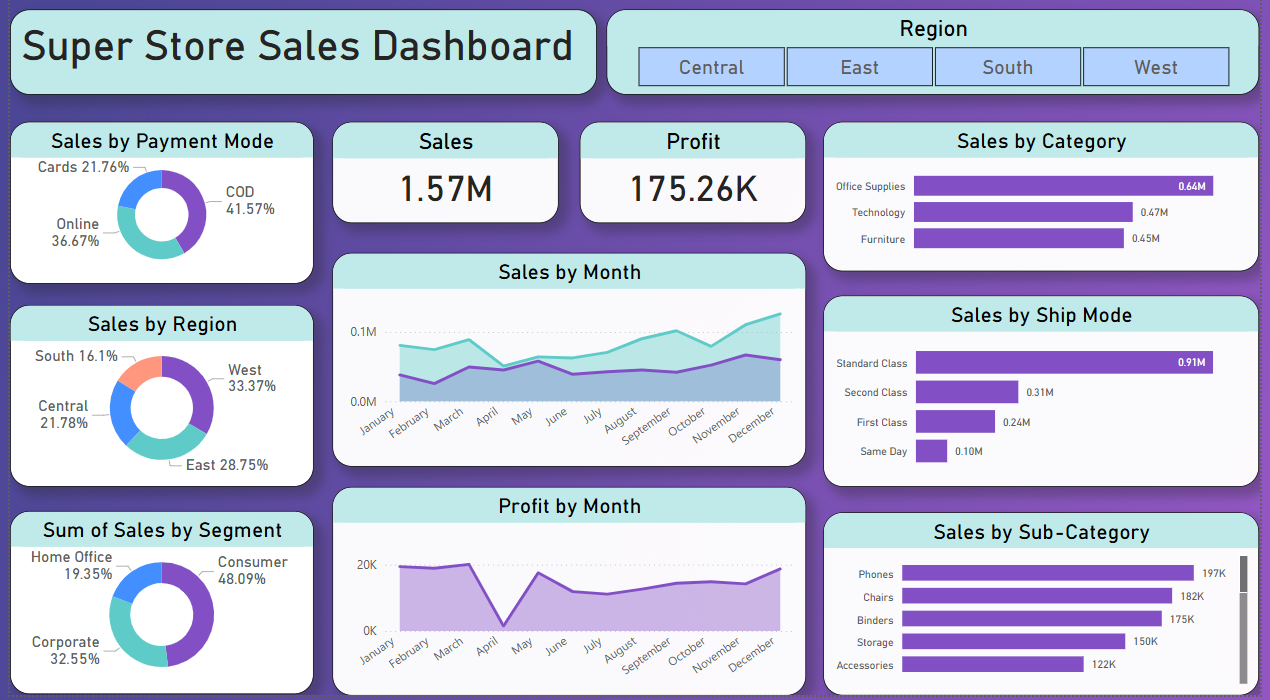

What the dashboard file says about the page in this screenshot:
{"tool":"powerbi","page":{"name":"Page 1","canvas":[1280,720],"ordinal":0},"visuals":[{"type":"donutChart","title":"Sales by Payment Mode","fields":{"Category":["SuperStore_Sales_Dataset.Payment Mode"],"Y":["CountNonNull(SuperStore_Sales_Dataset.Payment Mode)"]},"box":[0,132.9,310.9,165.7],"z":0},{"type":"donutChart","title":"Sales by Region","fields":{"Category":["SuperStore_Sales_Dataset.Region"],"Y":["Sum(SuperStore_Sales_Dataset.Sales)"]},"box":[0,320.5,310.9,186.3],"z":1000},{"type":"card","title":"Sales","fields":{"Values":["Sum(SuperStore_Sales_Dataset.Sales)"]},"box":[330.1,132.9,231.5,104.1],"z":2000},{"type":"card","title":"Profit","fields":{"Values":["Sum(SuperStore_Sales_Dataset.Profit)"]},"box":[583.5,132.9,231.5,104.1],"z":3000},{"type":"barChart","title":"Sales by Category","fields":{"Category":["SuperStore_Sales_Dataset.Category"],"Y":["Sum(SuperStore_Sales_Dataset.Sales)"]},"box":[832.8,132.9,446.5,153.4],"z":4000},{"type":"barChart","title":"Sales by Ship Mode","fields":{"Category":["SuperStore_Sales_Dataset.Ship Mode"],"Y":["Sum(SuperStore_Sales_Dataset.Sales)"]},"box":[832.8,310.9,446.5,195.9],"z":5000},{"type":"barChart","title":"Sales by Sub-Category","fields":{"Category":["SuperStore_Sales_Dataset.Sub-Category"],"Y":["Sum(SuperStore_Sales_Dataset.Sales)"]},"box":[832.8,532.8,446.5,187.7],"z":6000},{"type":"areaChart","title":"Sales by Month","fields":{"Y":["Sum(SuperStore_Sales_Dataset.Sales)"],"Category":["SuperStore_Sales_Dataset.Order Date.Variation.Date Hierarchy.Month"],"Series":["SuperStore_Sales_Dataset.Order Date.Variation.Date Hierarchy.Year"]},"box":[330.1,267.1,484.9,219.2],"z":7000},{"type":"lineChart","title":"Profit by Month","fields":{"Y":["Sum(SuperStore_Sales_Dataset.Profit)"],"Category":["SuperStore_Sales_Dataset.Order Date.Variation.Date Hierarchy.Month"]},"box":[330.1,506.8,484.9,213.7],"z":8000},{"type":"donutChart","fields":{"Category":["SuperStore_Sales_Dataset.Segment"],"Y":["Sum(SuperStore_Sales_Dataset.Sales)"]},"box":[0,531.5,310.9,187.7],"z":9000},{"type":"textbox","box":[0,17.8,601.3,87.7],"z":10000},{"type":"slicer","title":"Region","fields":{"Values":["SuperStore_Sales_Dataset.Region"]},"box":[610.9,17.8,668.4,87.7],"z":11000}]}

Visuals, with their boxes in screenshot pixels (x1, y1, x2, y2), scaled from the page's 1280x720 canvas onto the 1270x700 screenshot:
"Sales by Payment Mode" donutChart: (left=0, top=129, right=308, bottom=290)
"Sales by Region" donutChart: (left=0, top=312, right=308, bottom=493)
"Sales" card: (left=328, top=129, right=557, bottom=230)
"Profit" card: (left=579, top=129, right=809, bottom=230)
"Sales by Category" barChart: (left=826, top=129, right=1269, bottom=278)
"Sales by Ship Mode" barChart: (left=826, top=302, right=1269, bottom=493)
"Sales by Sub-Category" barChart: (left=826, top=518, right=1269, bottom=699)
"Sales by Month" areaChart: (left=328, top=260, right=809, bottom=473)
"Profit by Month" lineChart: (left=328, top=493, right=809, bottom=699)
donutChart - SuperStore_Sales_Dataset.Segment x Sum(SuperStore_Sales_Dataset.Sales): (left=0, top=517, right=308, bottom=699)
textbox: (left=0, top=17, right=597, bottom=103)
"Region" slicer: (left=606, top=17, right=1269, bottom=103)
